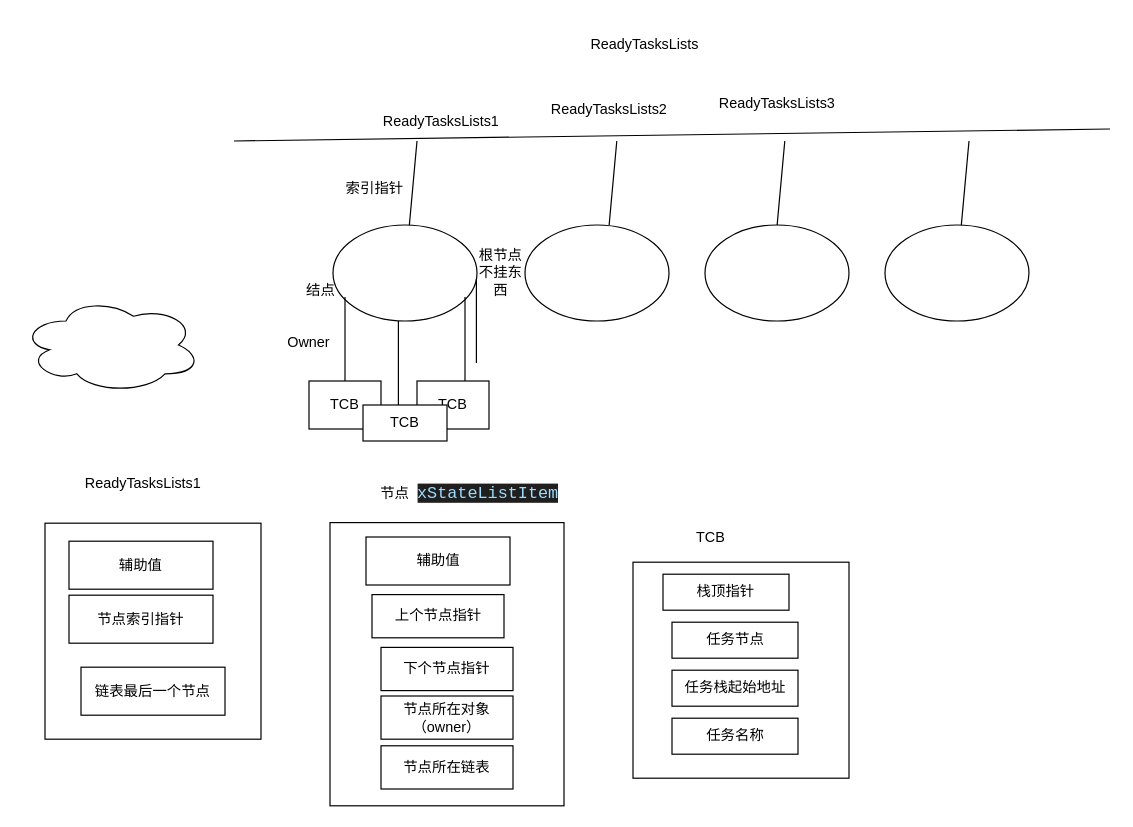
This 1133x827 diagram has some shape labels left out. Here are the shapes that lost their labels. From the top down, the centre of each, then its label:
At (x=404, y=272): "双向链表".
At (x=110, y=344): "注：结点属于TCB".
